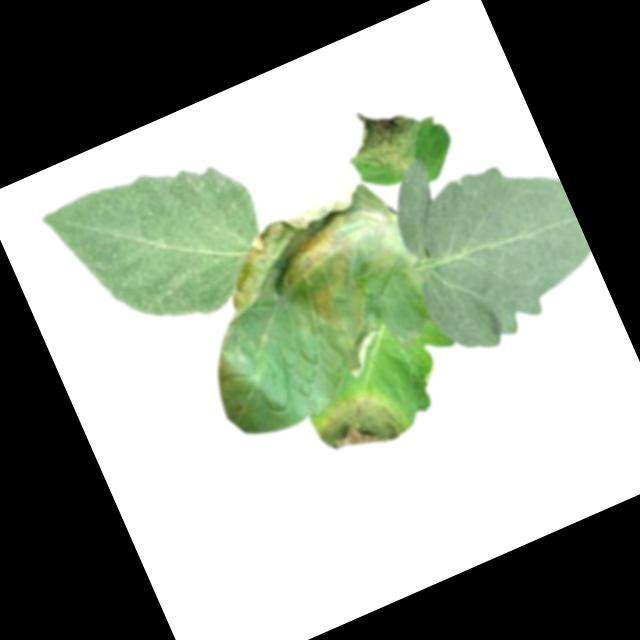Late_blight: (200, 174, 430, 369), (339, 91, 438, 189), (310, 381, 409, 469), (337, 326, 392, 379)
healthy: (372, 112, 610, 367), (38, 133, 290, 363)
